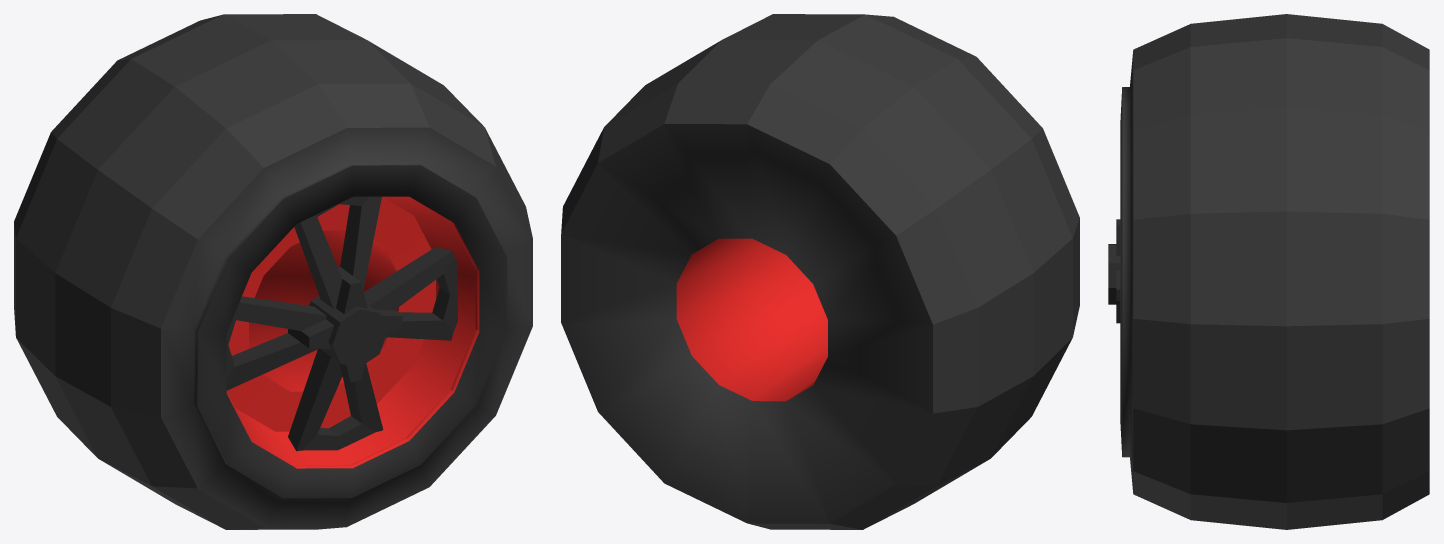
File: wheel10.fbx
3 renders of one model, left to right at view 1: azimuth 30°, elevation 25°; view 2: azimuth 150°, elevation 25°; view 3: azimuth 270°, elevation 25°, orthographic.
Visible parts, largest first — view 1: lanot_wheel8_L; view 2: lanot_wheel8_L; view 3: lanot_wheel8_L.
Boxes of the visible parts, x1,y1,x2,y2 form: lanot_wheel8_L: (14, 14, 532, 529); lanot_wheel8_L: (561, 14, 1079, 529); lanot_wheel8_L: (1108, 14, 1429, 529).
Size of the model in its own units: 152 by 156 by 97.15.
